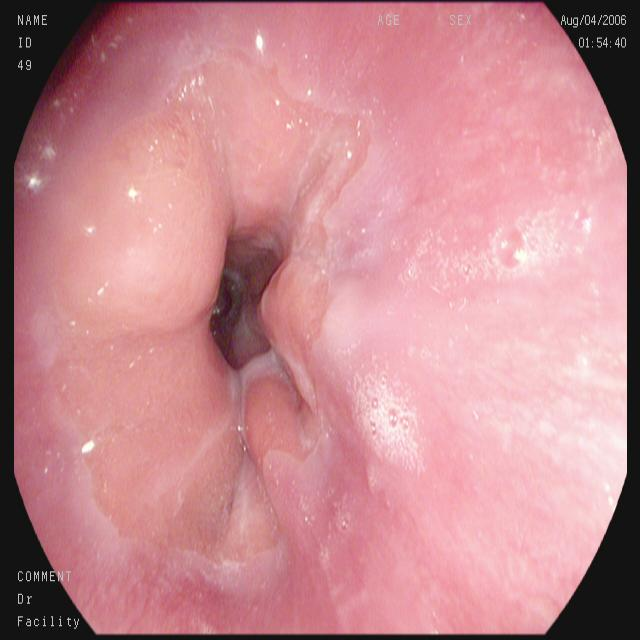Normal-Z-Line: (35, 49, 381, 601)
